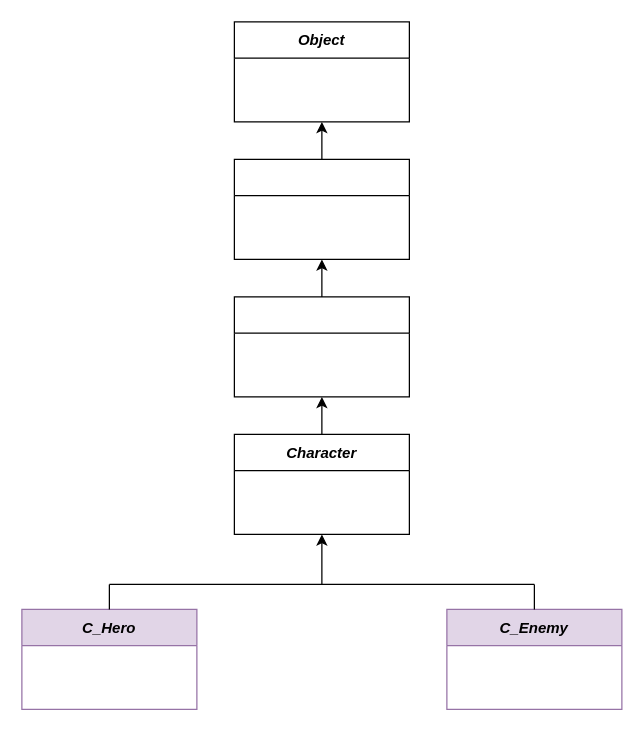
The diagram is 644 pixels wide and 731 high, and some of its shapes have lost their labels. Here are the shapes that lost their labels. From the top down, the box of each, then its label:
(233, 158, 409, 259): Actor
(233, 296, 409, 397): Pawn
